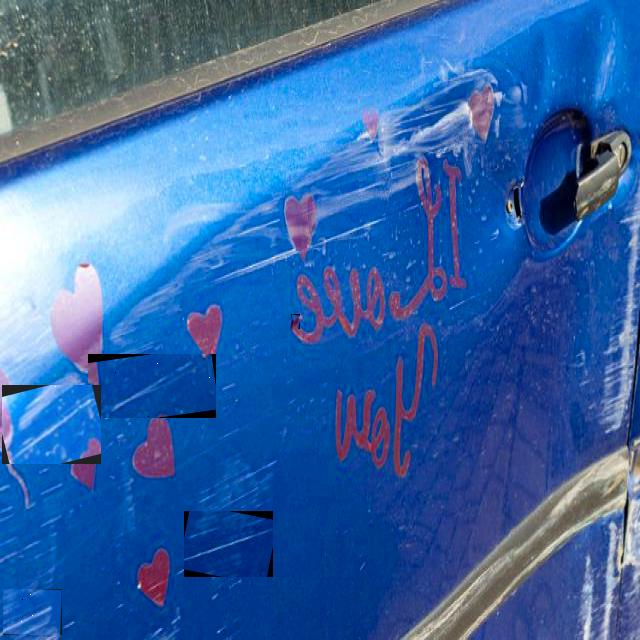Dent: (88, 354, 216, 418), (2, 385, 101, 464), (184, 511, 273, 577), (3, 589, 62, 635), (291, 314, 300, 329)
